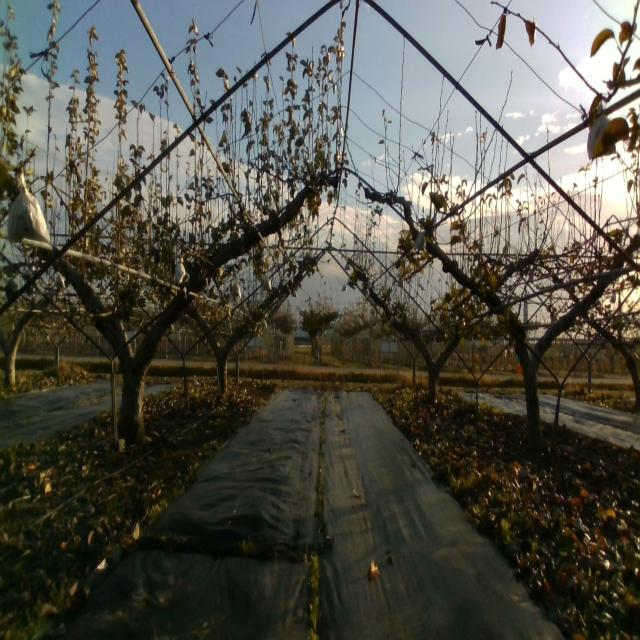pearbags: (7, 170, 51, 244), (586, 98, 610, 156), (175, 257, 186, 286), (413, 232, 427, 254), (230, 281, 241, 300)
